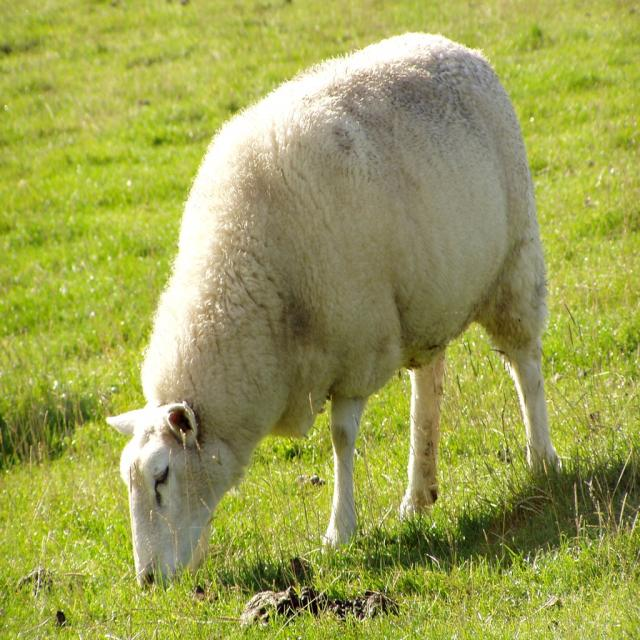Sheep: (105, 30, 560, 591)
